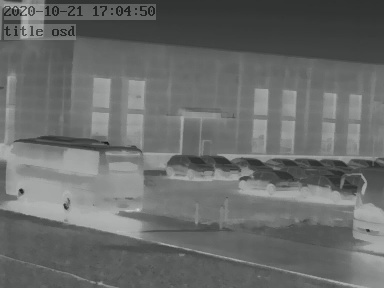vehicle: (3, 136, 150, 218), (240, 168, 303, 191), (298, 174, 349, 201), (164, 152, 212, 179), (203, 153, 243, 177), (233, 154, 270, 172), (344, 156, 379, 172), (262, 155, 297, 170), (320, 156, 352, 170), (296, 155, 325, 169)
